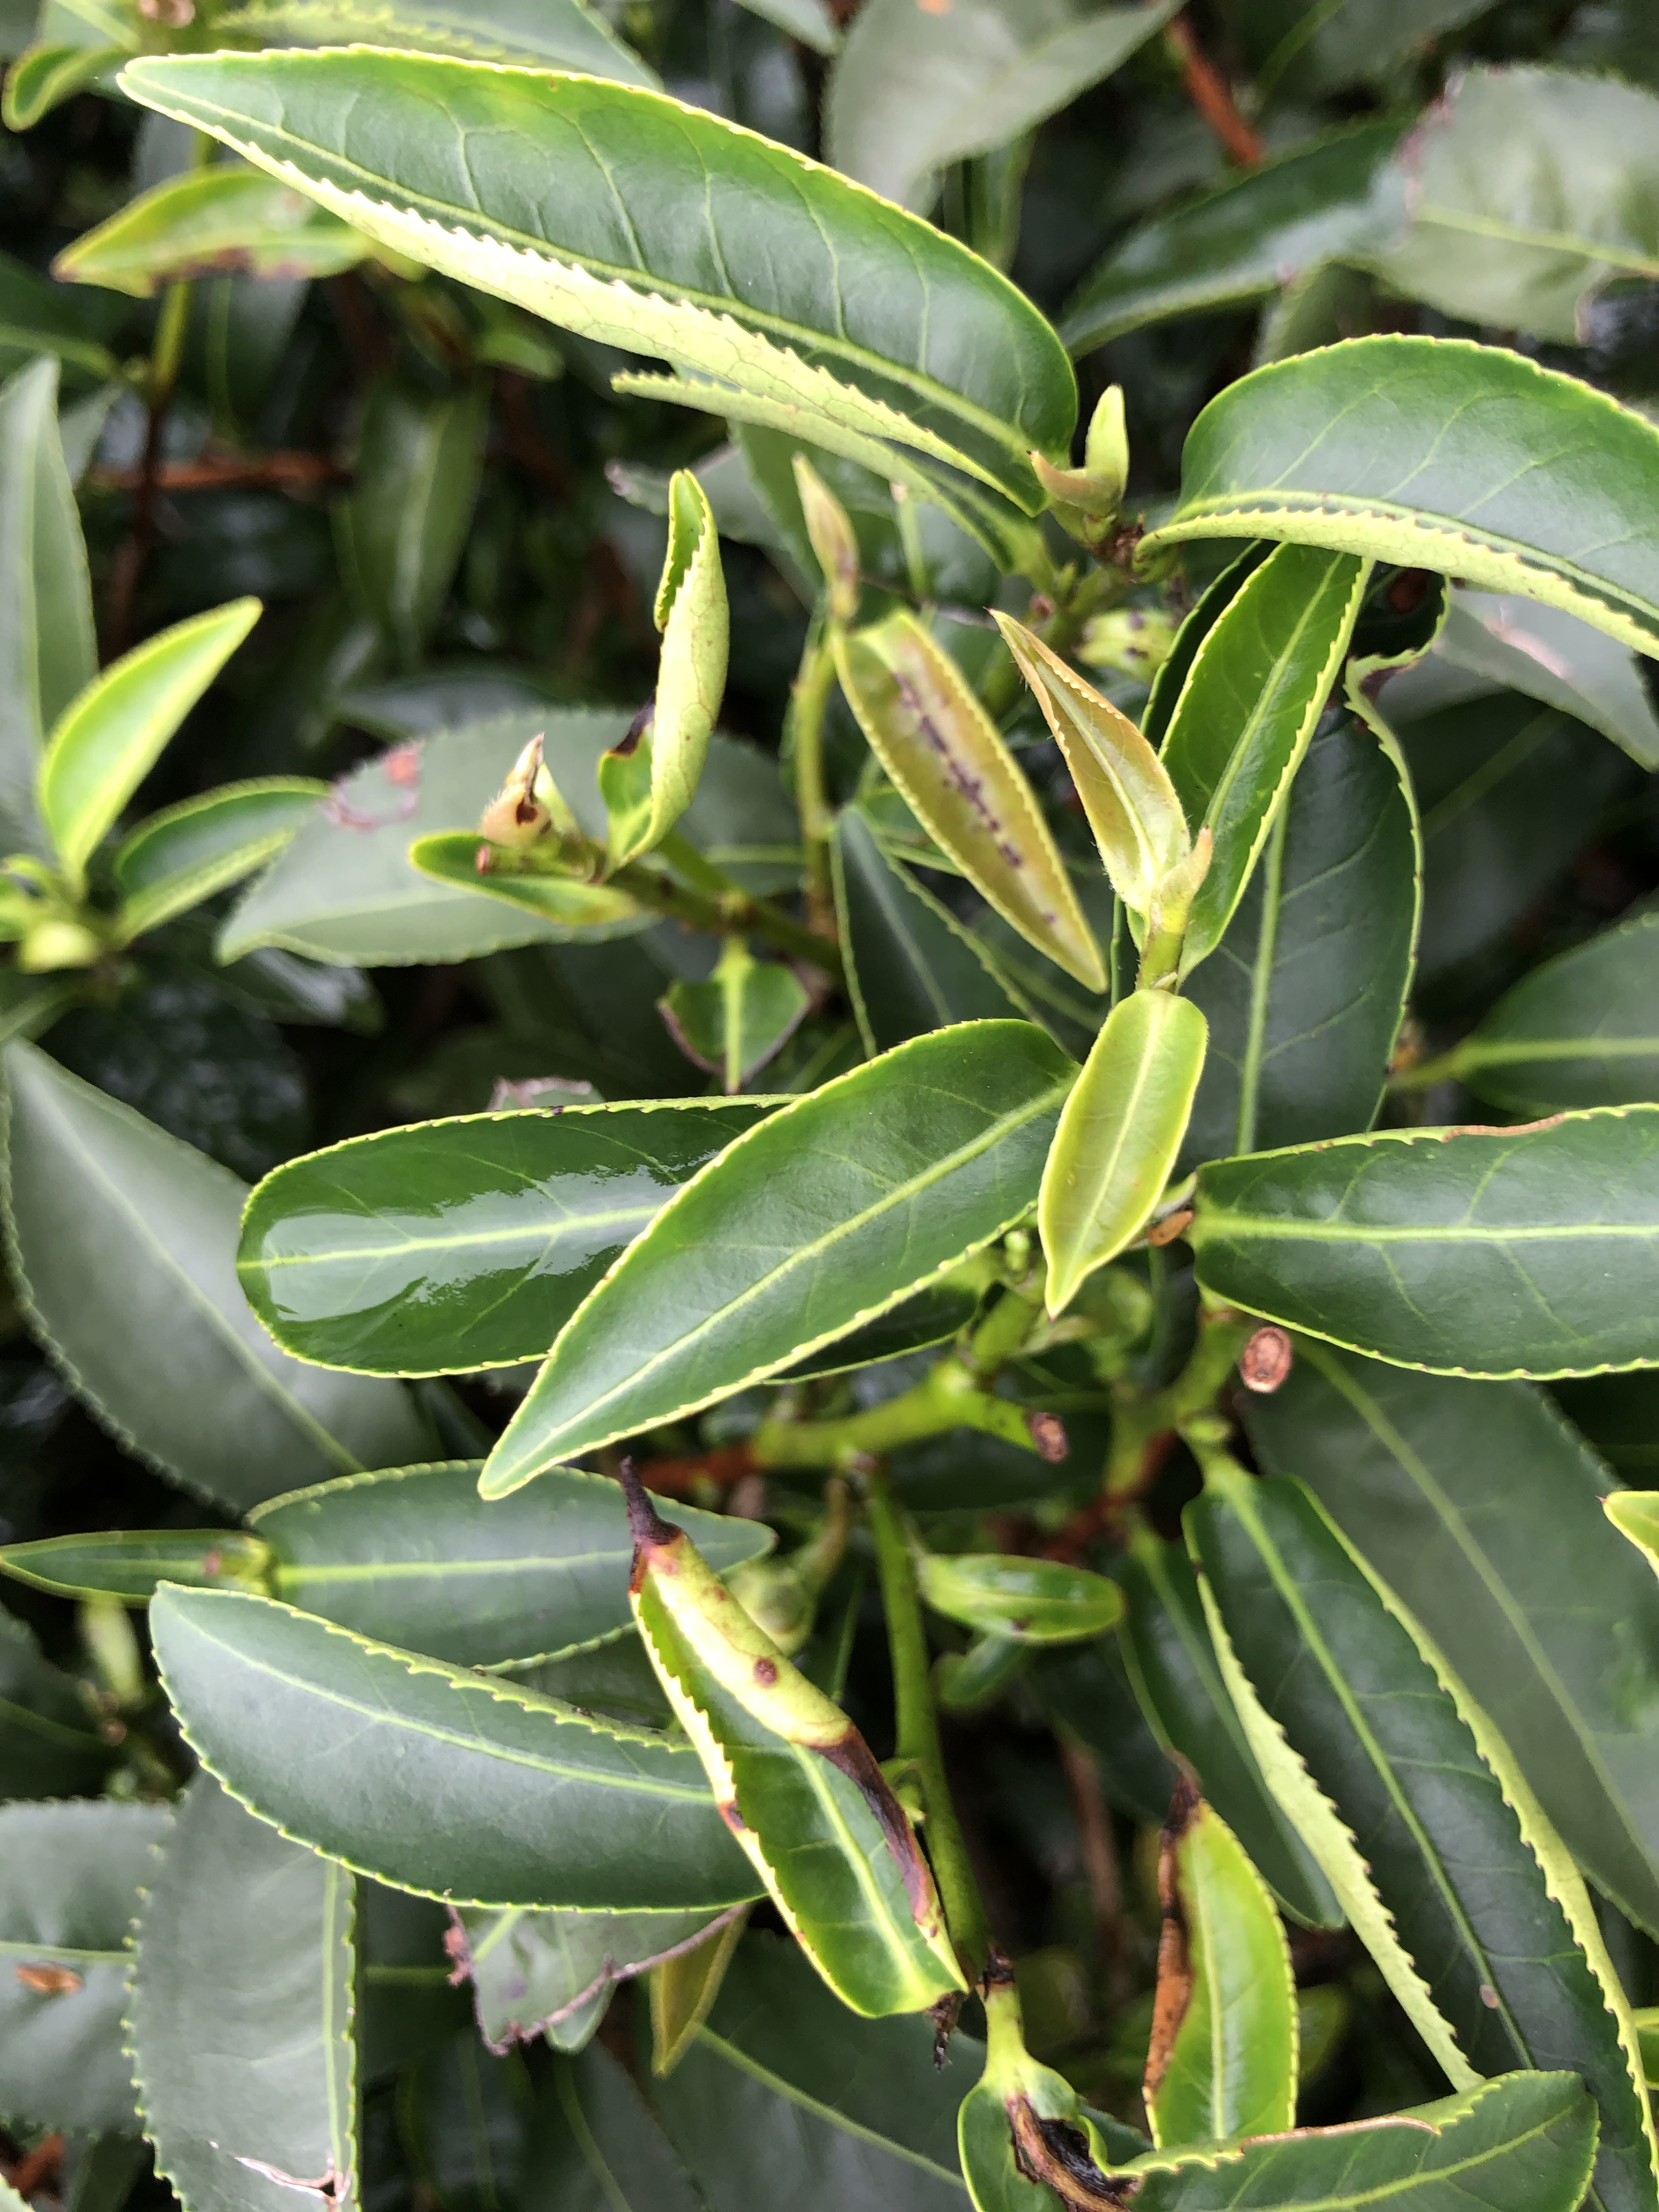formosa: (823, 622, 1194, 975), (993, 601, 1209, 951)
mosquito_early: (847, 608, 1094, 982)
tortrix: (624, 470, 739, 850)
